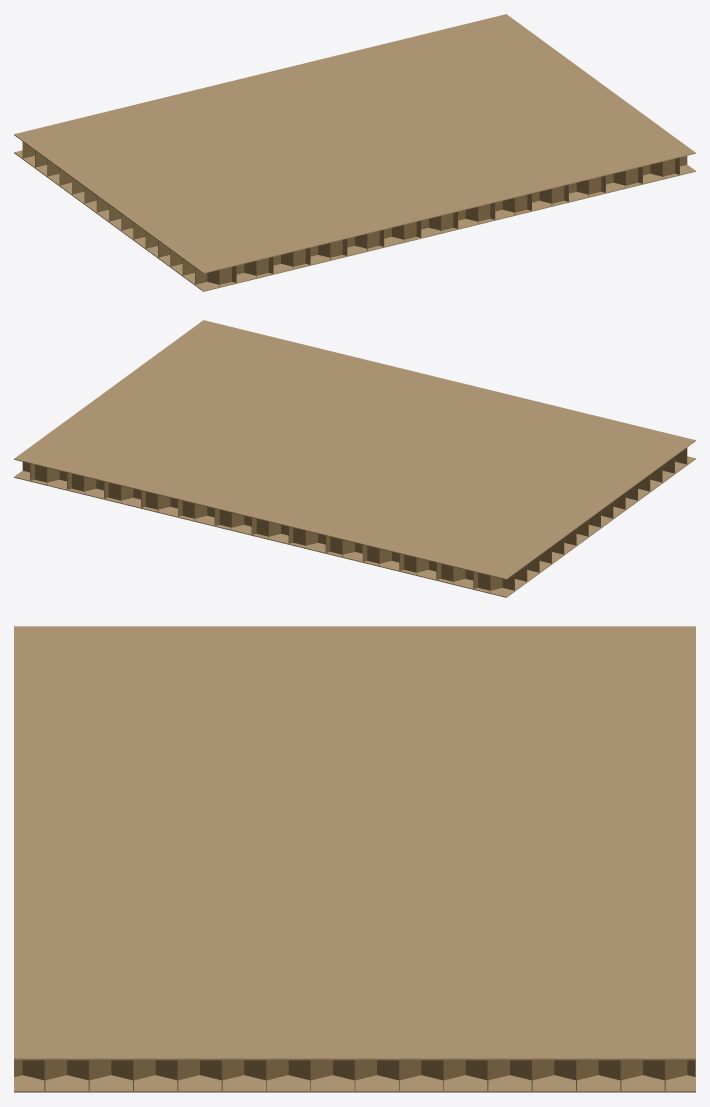
File: paper.glb
The picture shows the model from 3 angles, top to bottom: view 1: azimuth 30°, elevation 25°; view 2: azimuth 150°, elevation 25°; view 3: azimuth 270°, elevation 25°; orthographic projection. The views are drawn at different scales.
Parts seen in each view (by area): view 1: FacePaperSheet_1, OpenHexCellWalls, FacePaperSheet_0; view 2: FacePaperSheet_1, OpenHexCellWalls, FacePaperSheet_0; view 3: FacePaperSheet_1, OpenHexCellWalls, FacePaperSheet_0.
Part boxes in pixels (left/top/right/bottom): FacePaperSheet_1: left=14, top=14, right=695, bottom=273; OpenHexCellWalls: left=22, top=142, right=687, bottom=286; FacePaperSheet_0: left=14, top=150, right=695, bottom=291; FacePaperSheet_1: left=14, top=320, right=695, bottom=579; OpenHexCellWalls: left=22, top=448, right=687, bottom=592; FacePaperSheet_0: left=14, top=456, right=695, bottom=597; FacePaperSheet_1: left=14, top=626, right=695, bottom=1060; OpenHexCellWalls: left=14, top=1060, right=695, bottom=1090; FacePaperSheet_0: left=14, top=1060, right=695, bottom=1092.
Size of the model in its own units: 0.6 by 0.022 by 0.4.
